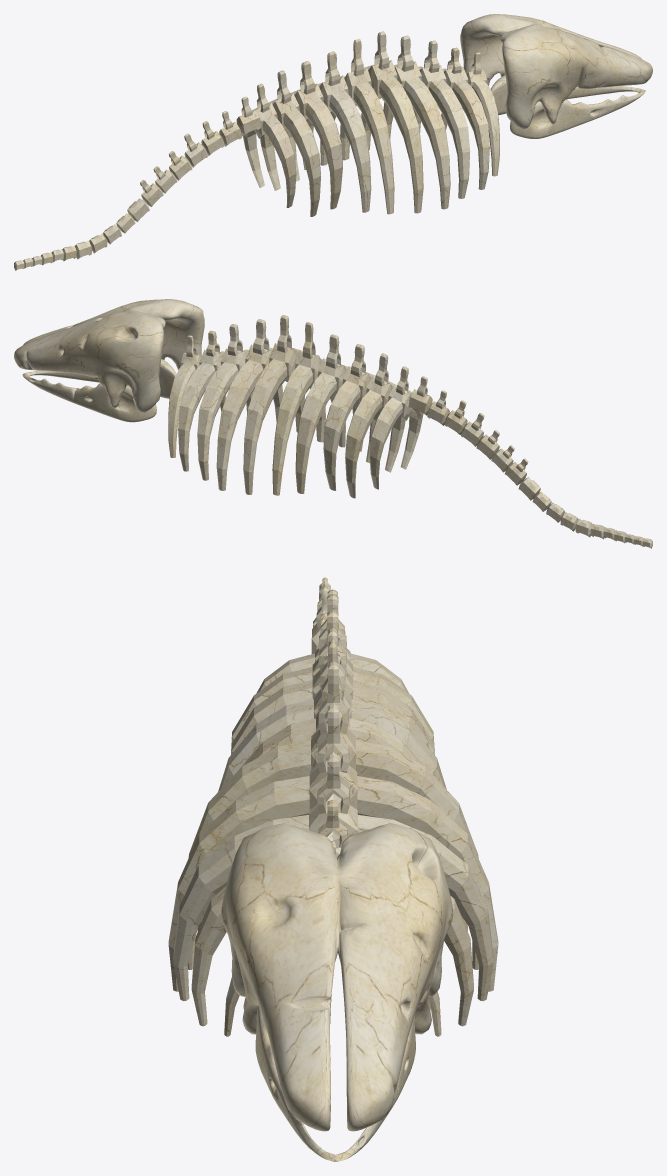
Rendered from whalebone_텍스쳐o2.FBX.
The picture shows the model from 3 angles, top to bottom: view 1: azimuth 30°, elevation 25°; view 2: azimuth 150°, elevation 25°; view 3: azimuth 270°, elevation 25°; orthographic projection. The views are drawn at different scales.
Parts seen in each view (by area): view 1: Plane001, Object023, Tube001, Object024, Object022, Object019, Object021, Object025, Object020, Object018, Object026, Object027 (+7 smaller); view 2: Plane001, Object023, Object024, Tube001, Object022, Object019, Object021, Object025, Object020, Object018, Object026, Object027 (+7 smaller); view 3: Plane001, Object024, Object025, Object023, Object026, Object021, Object020, Tube001, Object019, Object022, Object018, Object027.
Boxes of the visible parts, bbox=[...] form: Plane001: bbox=[460, 14, 652, 128]; Object023: bbox=[340, 31, 423, 213]; Tube001: bbox=[490, 75, 645, 138]; Object024: bbox=[361, 35, 450, 209]; Object022: bbox=[320, 38, 394, 214]; Object019: bbox=[260, 70, 320, 216]; Object021: bbox=[302, 51, 371, 212]; Object025: bbox=[383, 40, 470, 198]; Object020: bbox=[284, 61, 342, 209]; Object018: bbox=[243, 83, 296, 207]; Object026: bbox=[412, 47, 489, 189]; Object027: bbox=[441, 52, 499, 176]; Plane001: bbox=[14, 299, 204, 412]; Object023: bbox=[243, 315, 325, 494]; Object024: bbox=[216, 319, 304, 490]; Tube001: bbox=[22, 359, 176, 422]; Object022: bbox=[272, 322, 345, 495]; Object019: bbox=[345, 353, 405, 498]; Object021: bbox=[295, 334, 363, 493]; Object025: bbox=[197, 324, 283, 480]; Object020: bbox=[323, 344, 380, 490]; Object018: bbox=[369, 366, 423, 489]; Object026: bbox=[178, 330, 254, 471]; Object027: bbox=[168, 335, 226, 457]; Plane001: bbox=[221, 823, 453, 1131]; Object024: bbox=[168, 704, 498, 991]; Object025: bbox=[173, 754, 493, 1000]; Object023: bbox=[188, 661, 478, 969]; Object026: bbox=[191, 800, 473, 1026]; Object021: bbox=[218, 628, 446, 791]; Object020: bbox=[231, 610, 434, 754]; Tube001: bbox=[255, 1006, 415, 1161]; Object019: bbox=[231, 594, 434, 750]; Object022: bbox=[197, 640, 467, 931]; Object018: bbox=[256, 589, 408, 693]; Object027: bbox=[224, 841, 441, 1036].
Bounding box in the file's own units: 928 × 214 × 210.
1 material, 1 textured.
